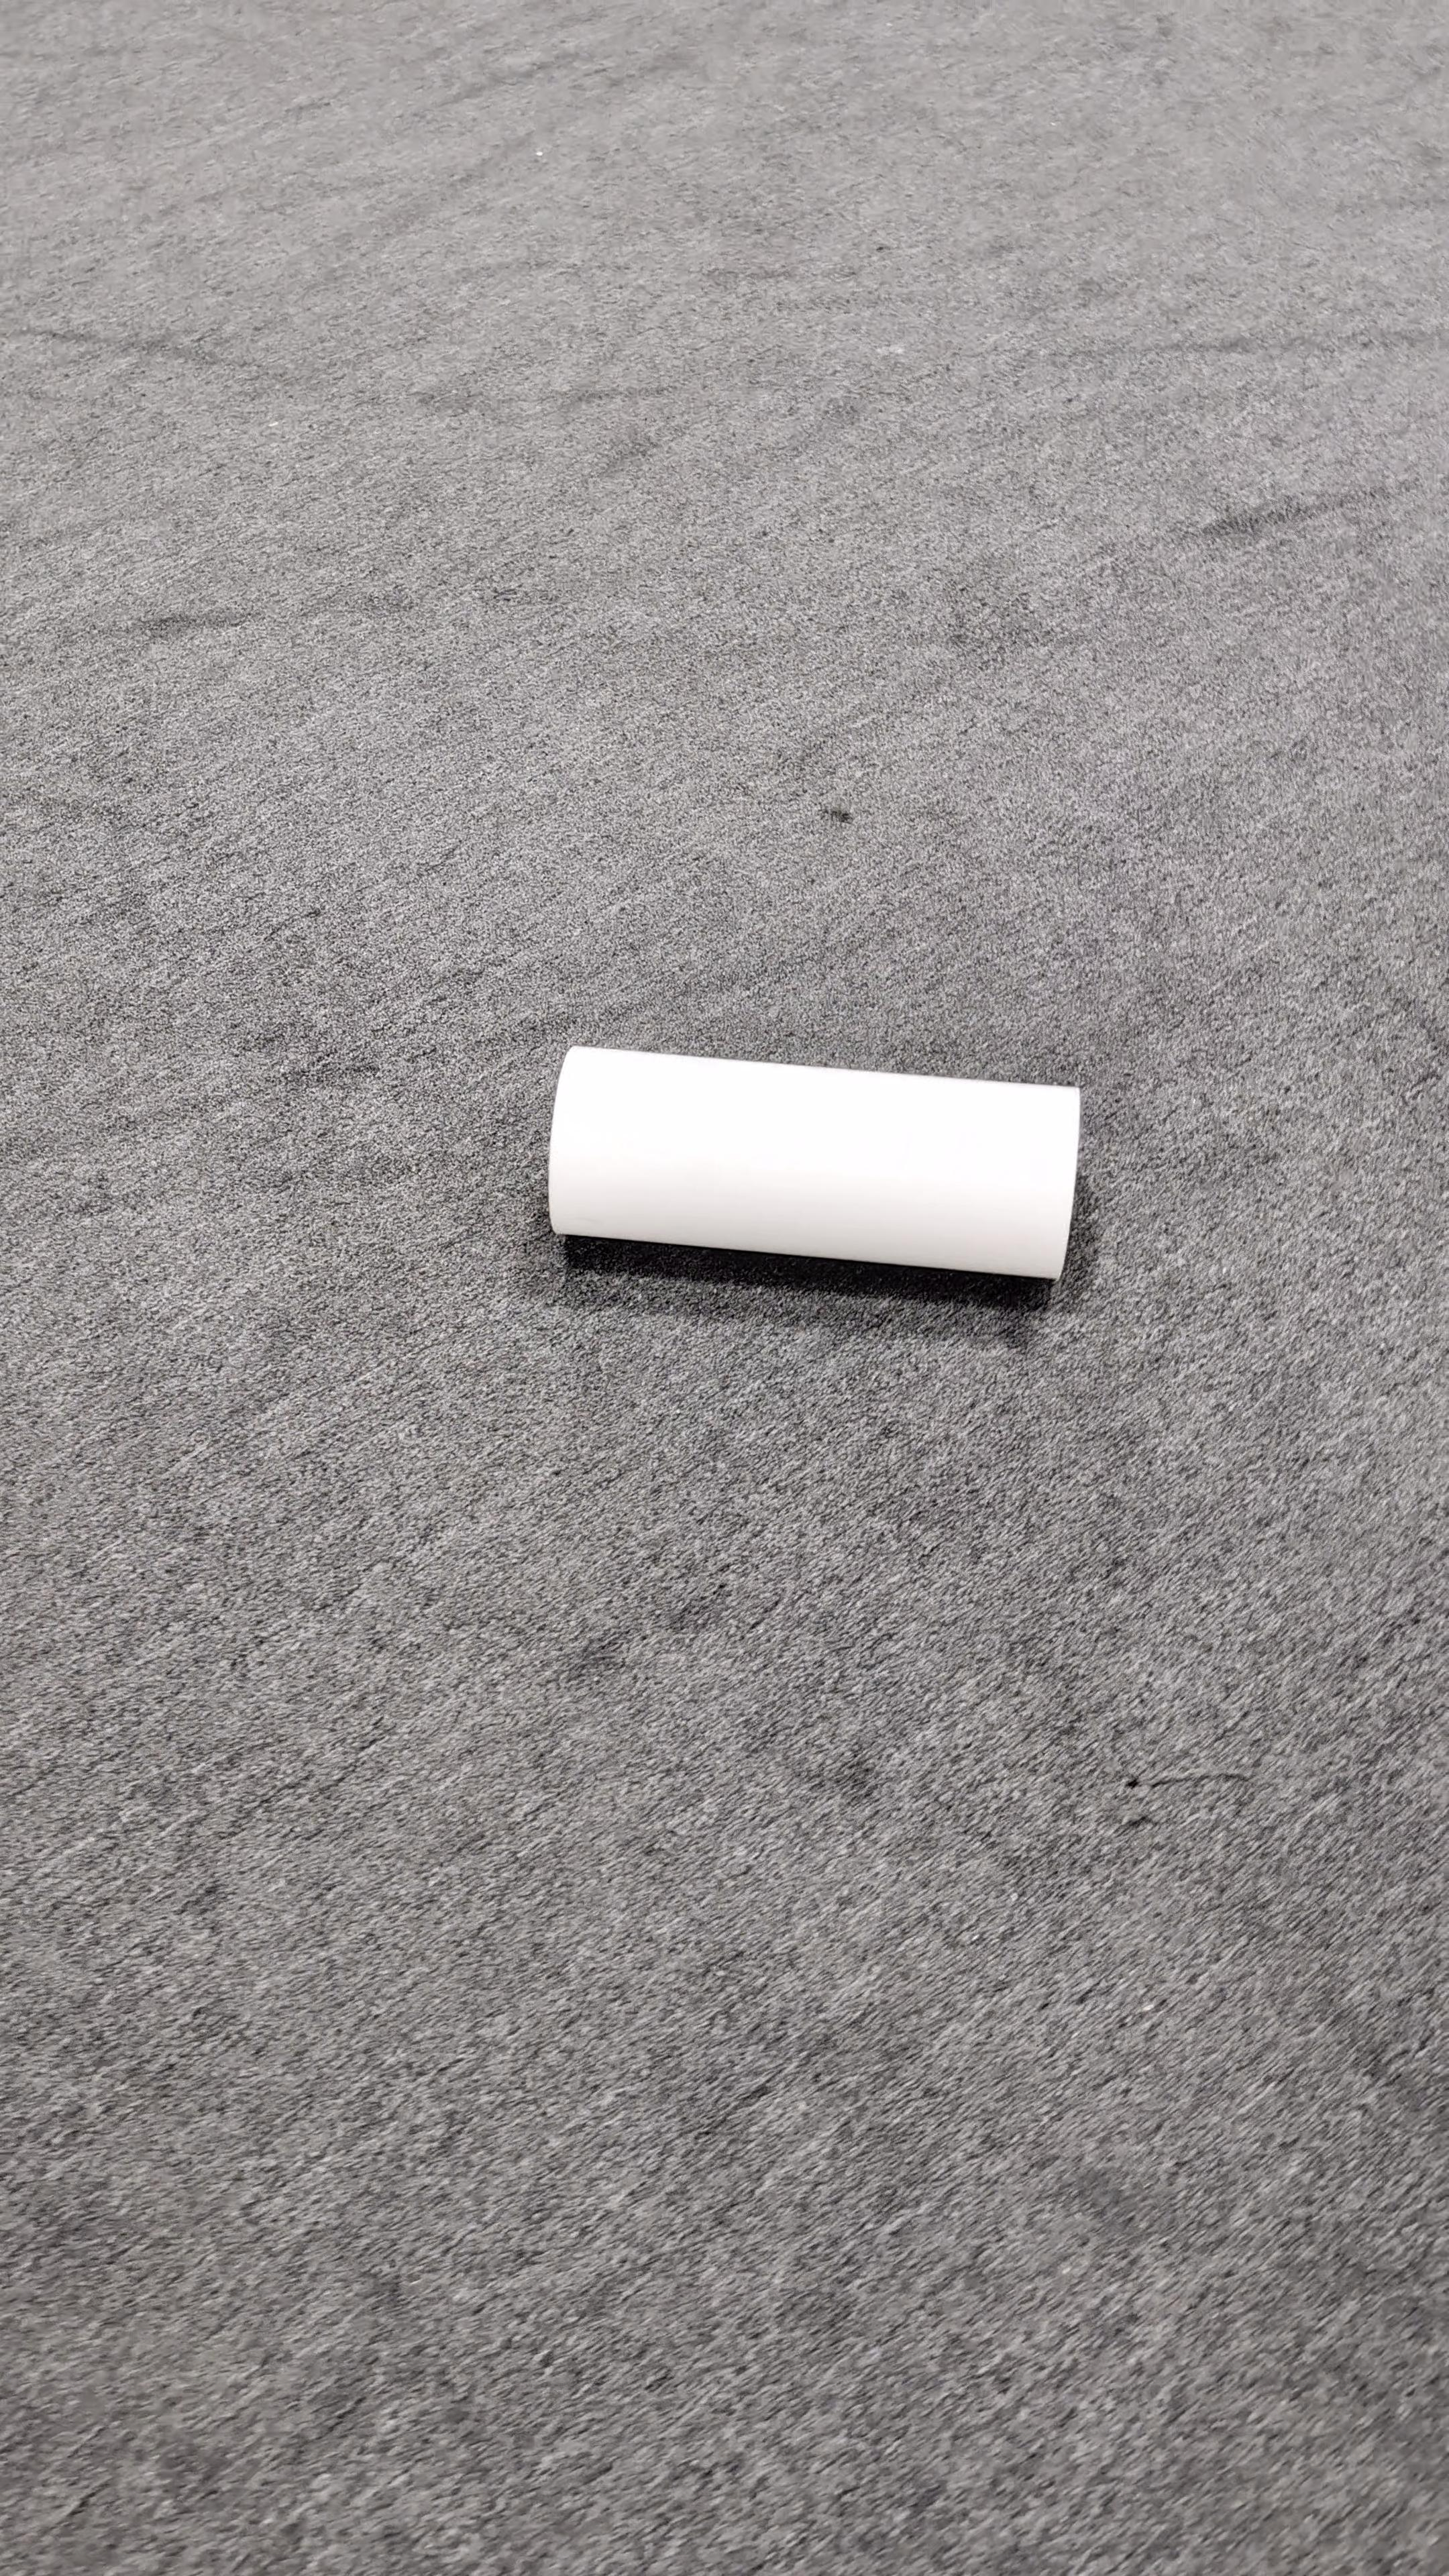coral: (547, 1040, 1083, 1281)
